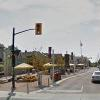Traffic light: (29, 20, 47, 35)
